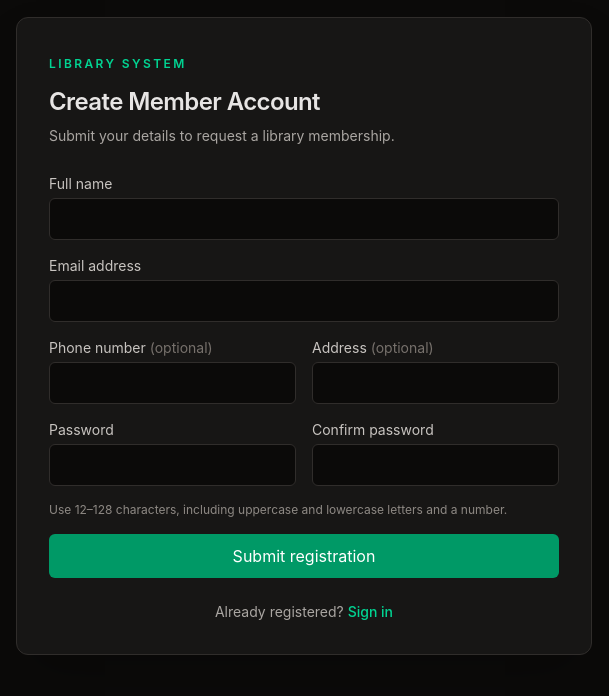
Test case: member registration page › does not submit when passwords do not match
In the field labelled "Full name": (304, 219) [49,198,559,240], type "Alex Member"
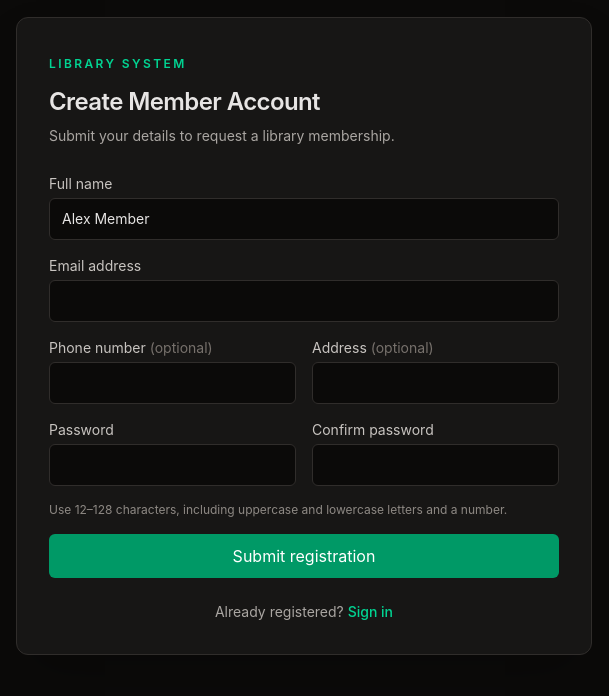
In the field labelled "Email address": (304, 301) [49,280,559,322], type "alex@example.com"
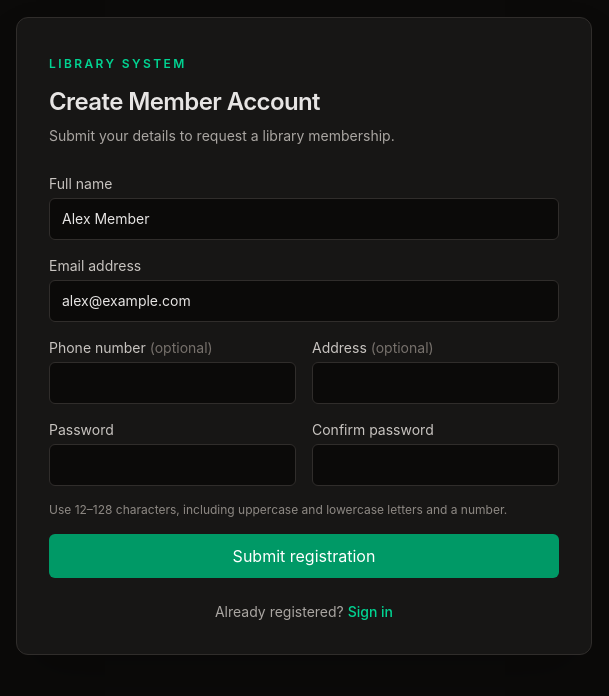
In the password field labelled "Password": (172, 465) [49,444,296,486], type "LibraryPassword2026"
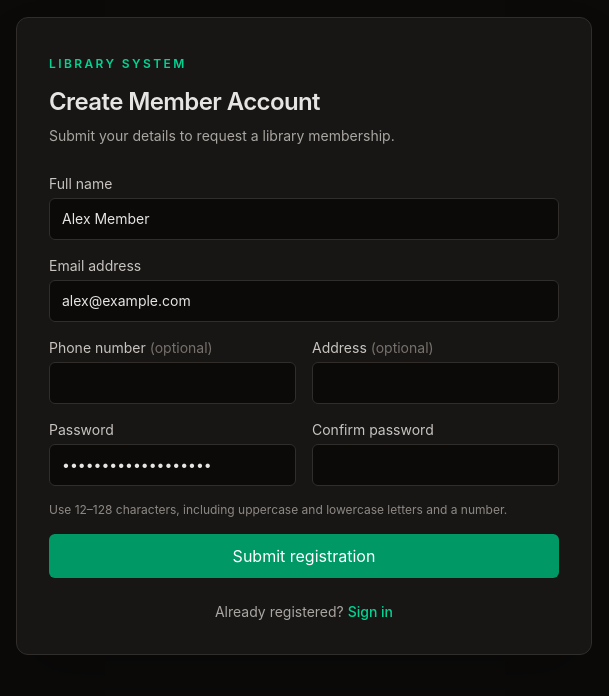
In the password field labelled "Confirm password": (436, 465) [312,444,559,486], type "DifferentPassword2026"
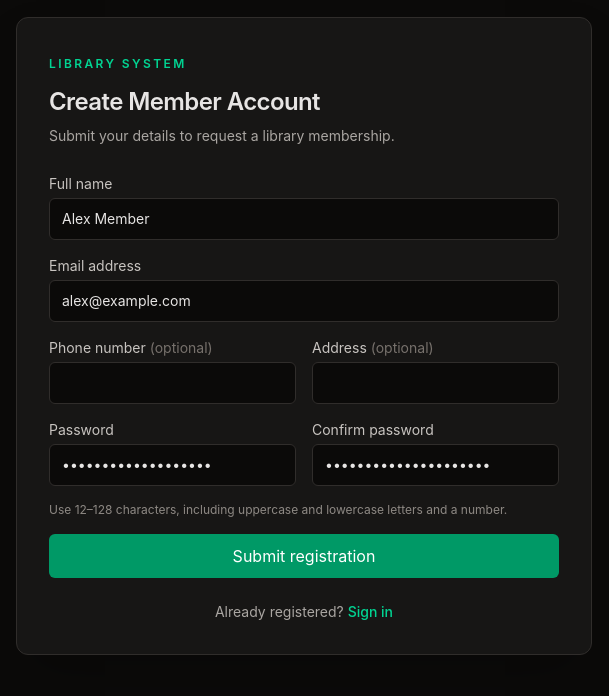
Click the button "Submit registration": (304, 556) [49,534,559,578]
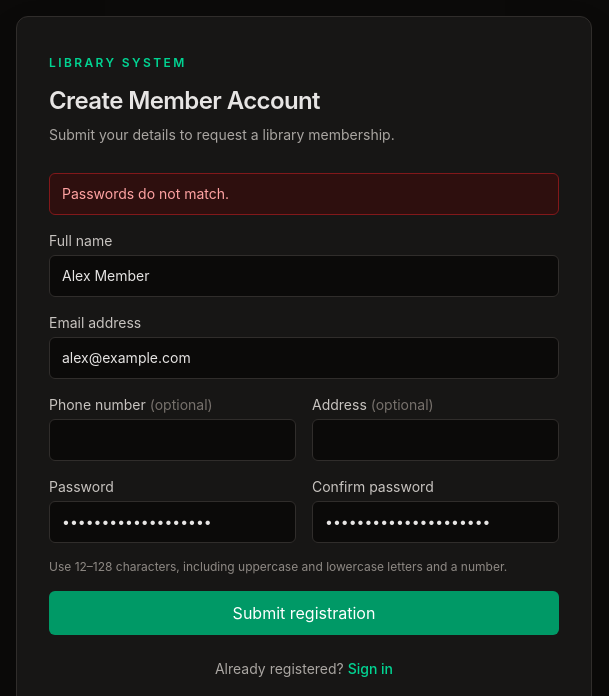
Expected: the message reads "Passwords do not match.", [62,185,229,202]
